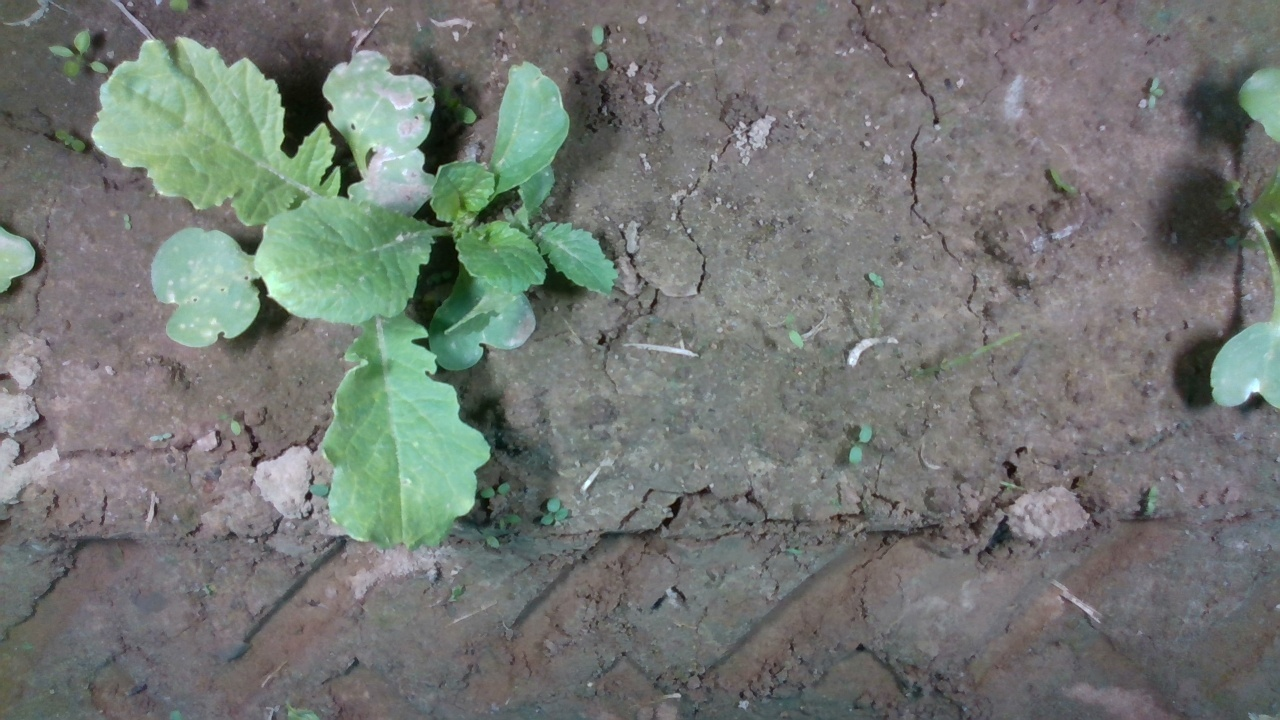weed: (847, 421, 873, 467), (590, 21, 610, 72), (53, 126, 86, 152), (1144, 74, 1165, 111), (478, 481, 511, 499), (867, 270, 885, 289), (147, 431, 173, 443), (122, 211, 132, 233)
